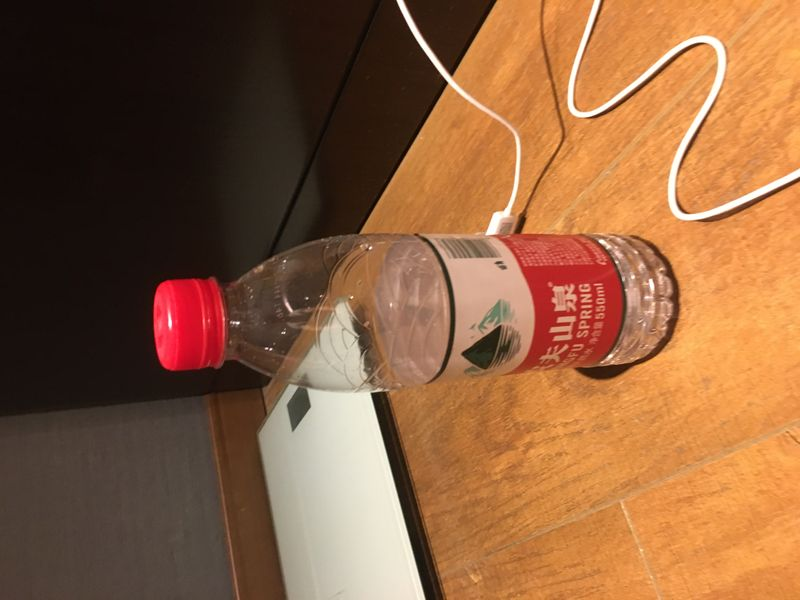5eca67a90202601e8cb8d104: (143, 228, 679, 382)
